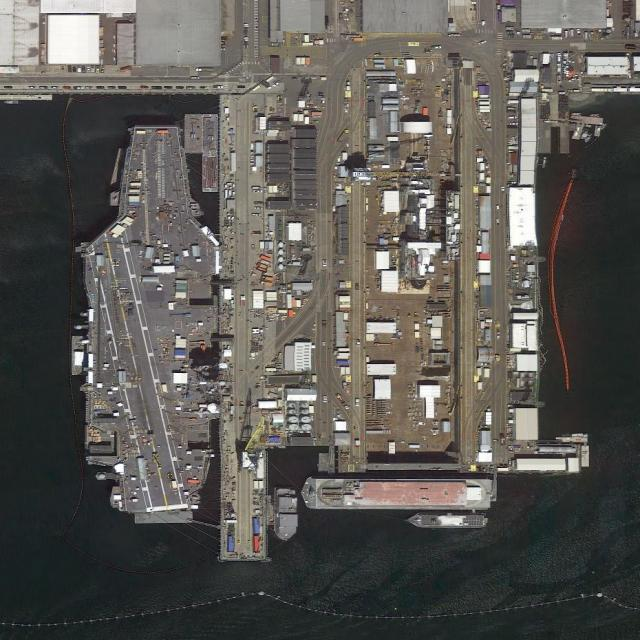Aircraft Carrier: (80, 125, 219, 513)
Cargo: (301, 474, 494, 511)
Dock: (220, 92, 267, 562)
Other Warship: (406, 513, 488, 529), (274, 489, 299, 541)
